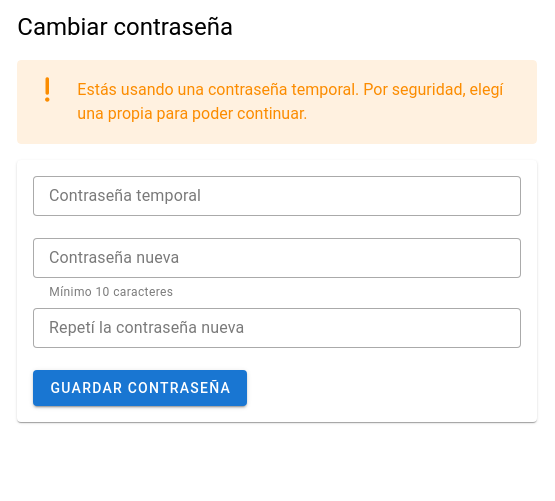
CambiarPassword › clave actual incorrecta: muestra el mensaje de la API y se queda en la pantalla
This screenshot has width=555, height=501.
Type "equivocada" into the password field labelled "Contraseña temporal" at point(277, 196), box [33, 176, 521, 216]
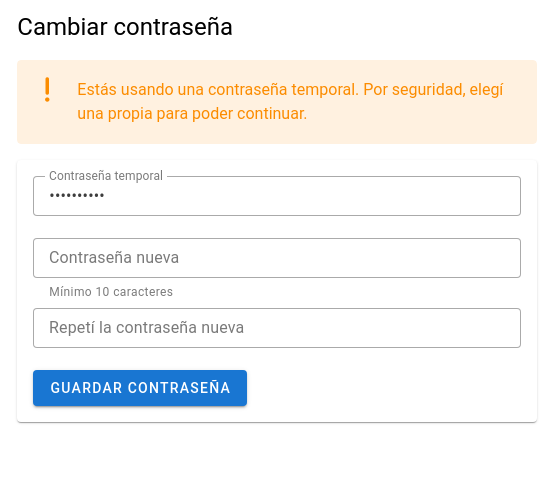
Type "nueva-clave-segura" into the password field labelled "Contraseña nueva" at point(277, 258), box [33, 238, 521, 278]
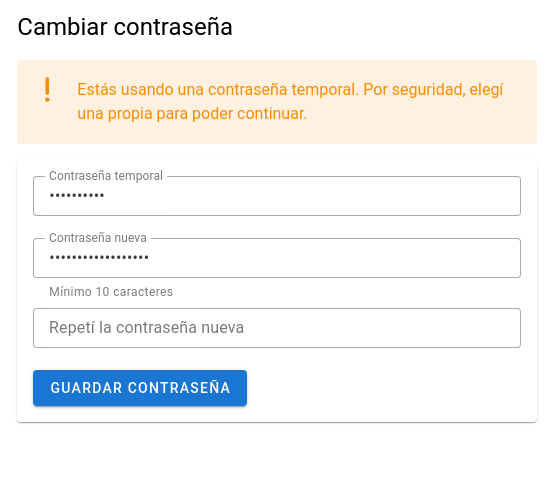
Type "nueva-clave-segura" into the password field labelled "Repetí la contraseña nueva" at point(277, 328), box [33, 308, 521, 348]
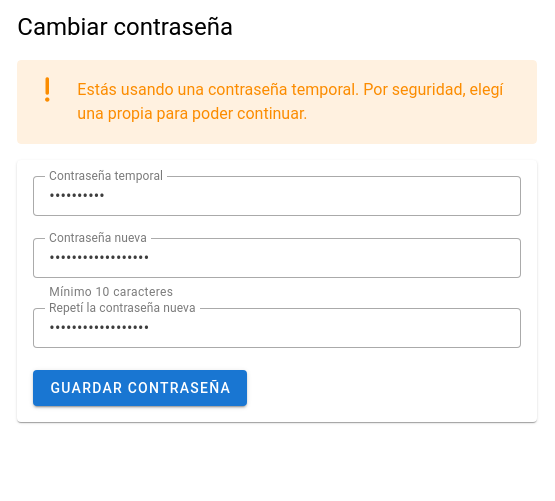
Submit the form, box [33, 176, 521, 406]
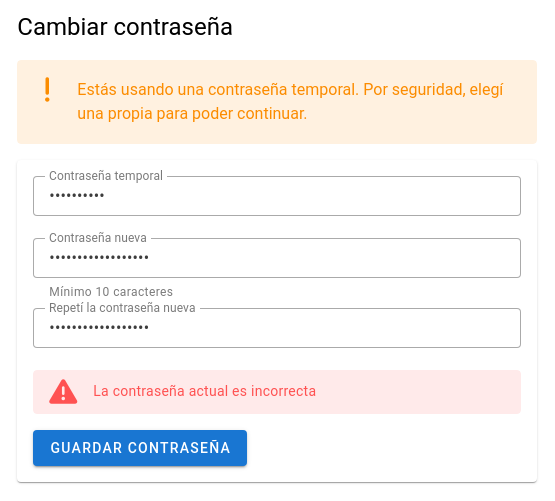
Now the text "La contraseña actual es incorrecta" is shown, box [93, 383, 316, 399]
